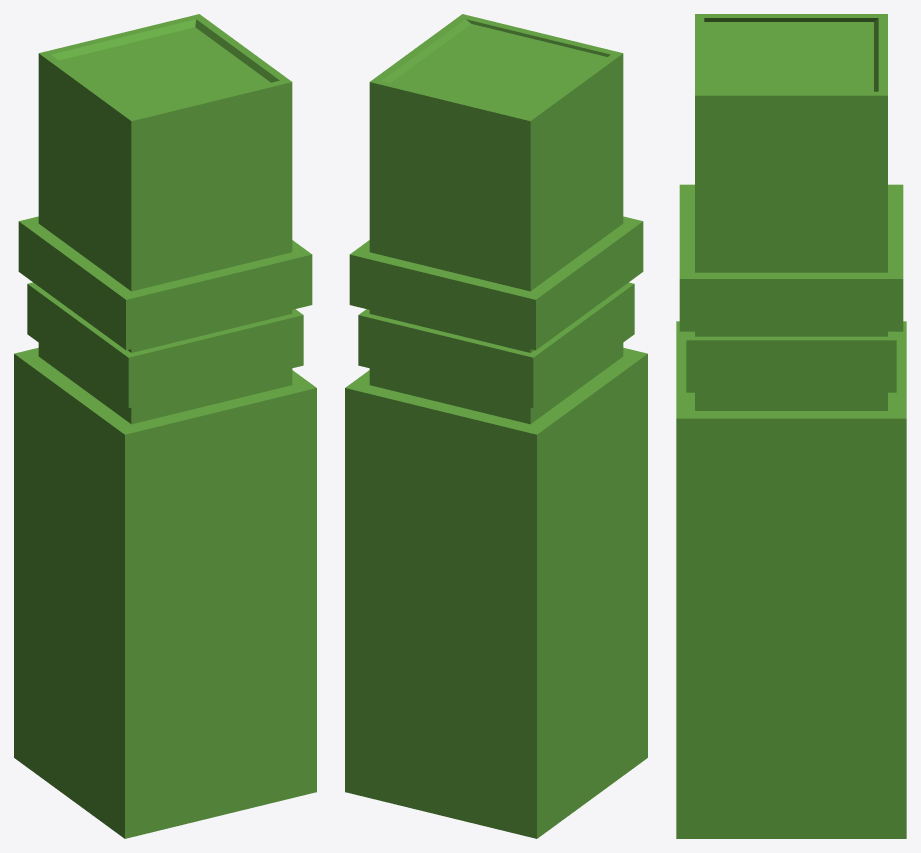
Rendered from Building8_green.fbx.
3 renders of one model, left to right at view 1: azimuth 30°, elevation 25°; view 2: azimuth 150°, elevation 25°; view 3: azimuth 270°, elevation 25°, orthographic. The views are drawn at different scales.
Parts seen in each view (by area): view 1: Building 8; view 2: Building 8; view 3: Building 8.
Boxes of the visible parts, bbox=[...] form: Building 8: bbox=[14, 14, 316, 838]; Building 8: bbox=[345, 14, 647, 838]; Building 8: bbox=[676, 14, 906, 838].
Bounding box in the file's own units: 1195 × 4206 × 1195.
Materials: 1 (1 with a texture image).
